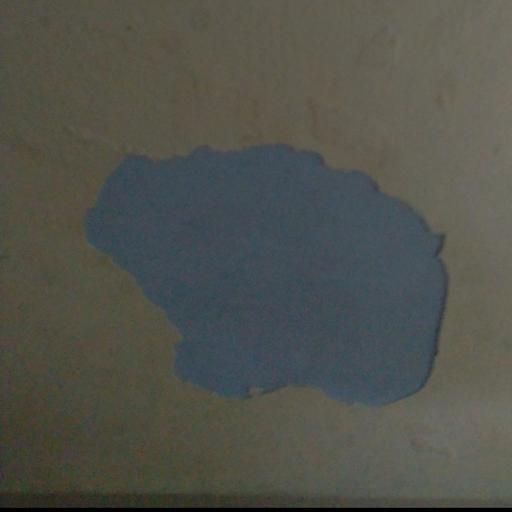peeling: (76, 139, 460, 406)
